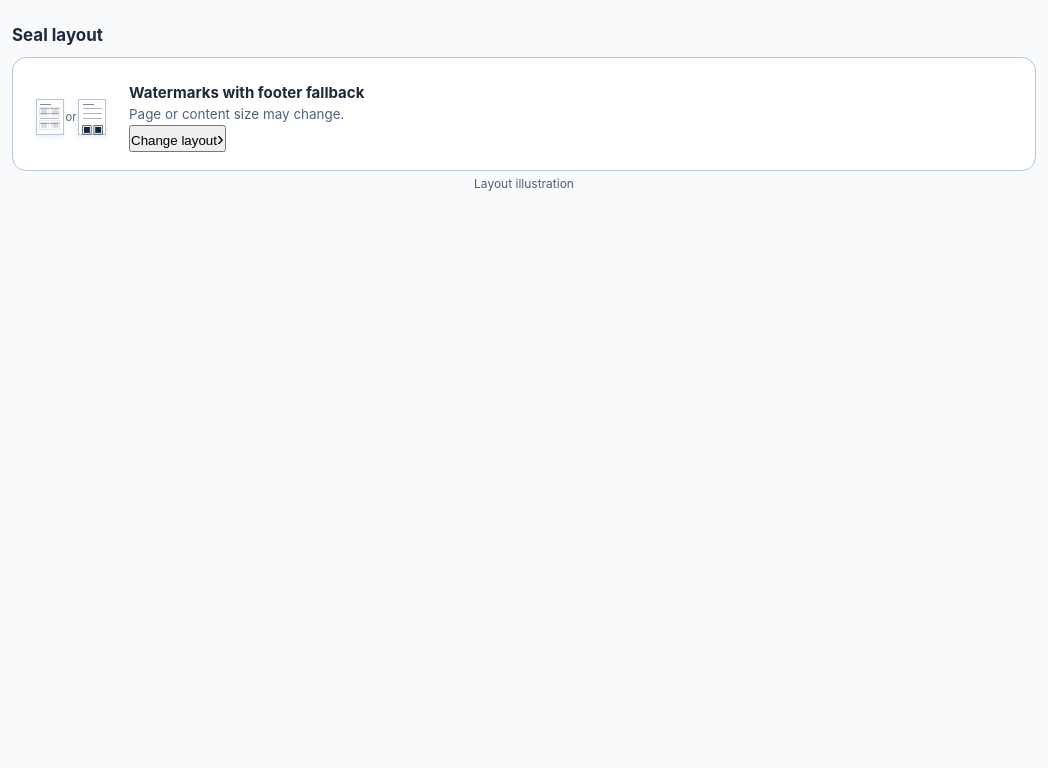
Scenario: shows a legacy watermark value through the single equivalent fallback option without rewriting it
The image size is (1048, 768).
Later steps or results of the test are not shown.
Click the button "Change layout›". click: (177, 138)
box: top-left (129, 125), bottom-right (226, 152)
(page scrolled)
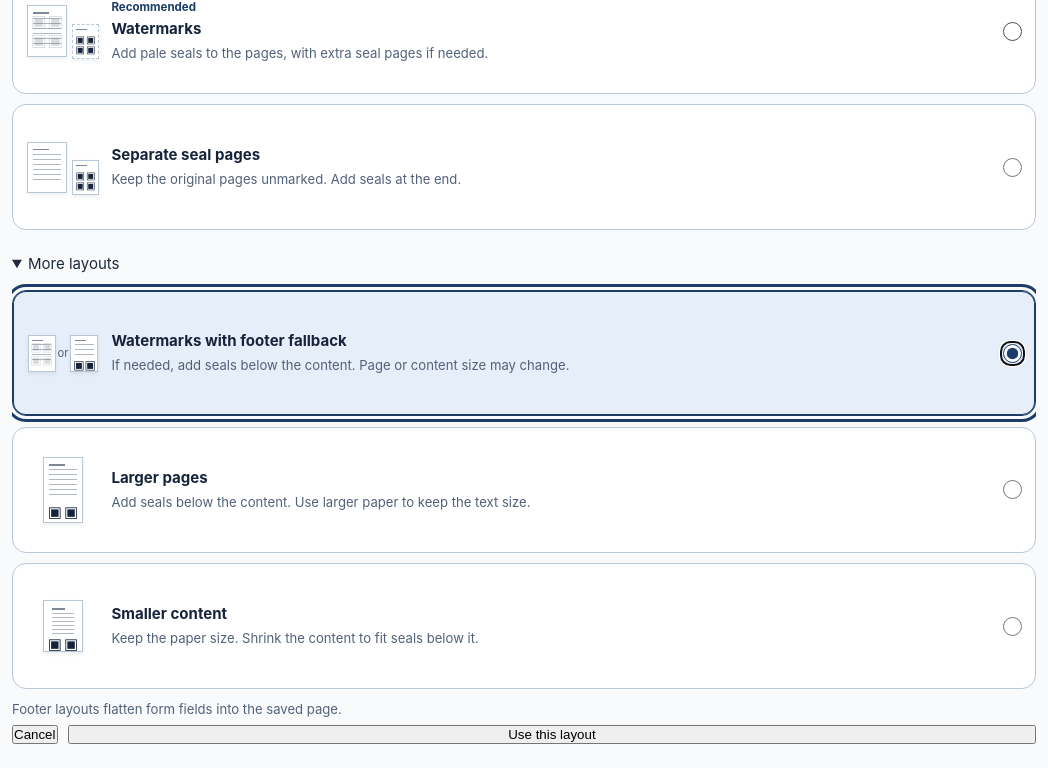
Expected: the radio button labelled "Watermarks with footer fallback" is checked, top-left (1003, 344), bottom-right (1022, 363)
Expected: the number of radio buttons is 5, top-left (1003, 22), bottom-right (1022, 41); top-left (1003, 158), bottom-right (1022, 177); top-left (1003, 344), bottom-right (1022, 363); top-left (1003, 480), bottom-right (1022, 499); top-left (1003, 617), bottom-right (1022, 636)
